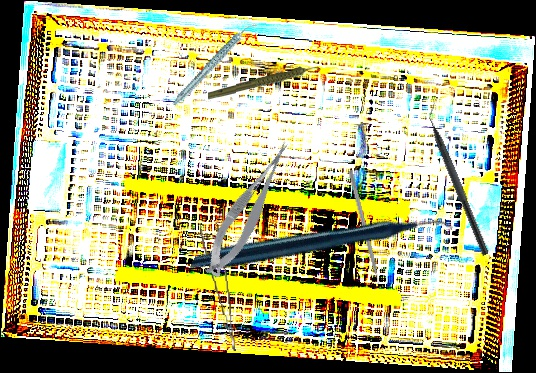Chopper: (419, 99, 499, 257), (341, 169, 383, 292)
Handpiece: (189, 128, 454, 366), (159, 21, 270, 108), (207, 66, 322, 100)
Micro Scissor: (191, 137, 308, 283)
Tissue Forceps: (199, 221, 236, 353)
